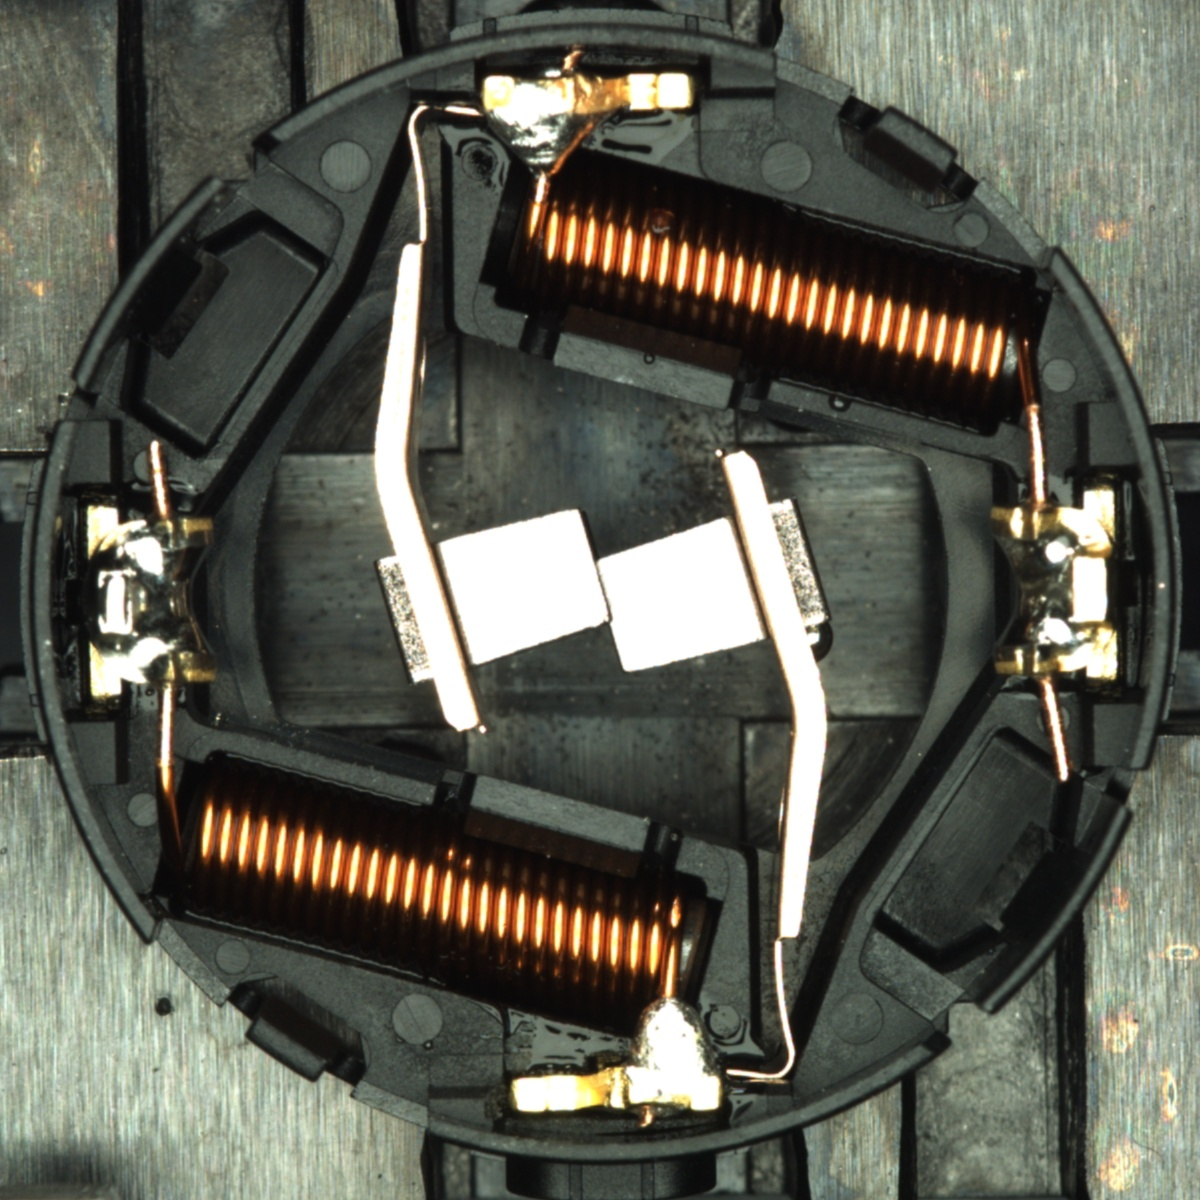1: (713, 927, 943, 1152), (255, 30, 484, 254)
2: (713, 30, 943, 254), (255, 927, 484, 1152)
3: (943, 702, 1171, 927), (25, 254, 255, 478)
4: (713, 702, 943, 927), (255, 254, 484, 478)
5: (484, 142, 713, 366), (484, 815, 713, 1040)
6: (255, 702, 484, 927), (713, 254, 943, 478)
7: (25, 702, 255, 927), (943, 254, 1171, 478)
cacbon: (397, 497, 800, 684)
chau_dien: (81, 500, 222, 701), (982, 488, 1124, 687)
hat_chi: (804, 620, 835, 664)
tay_choi: (480, 71, 696, 175)
thanh_de: (956, 789, 1141, 1030), (59, 165, 243, 404)
